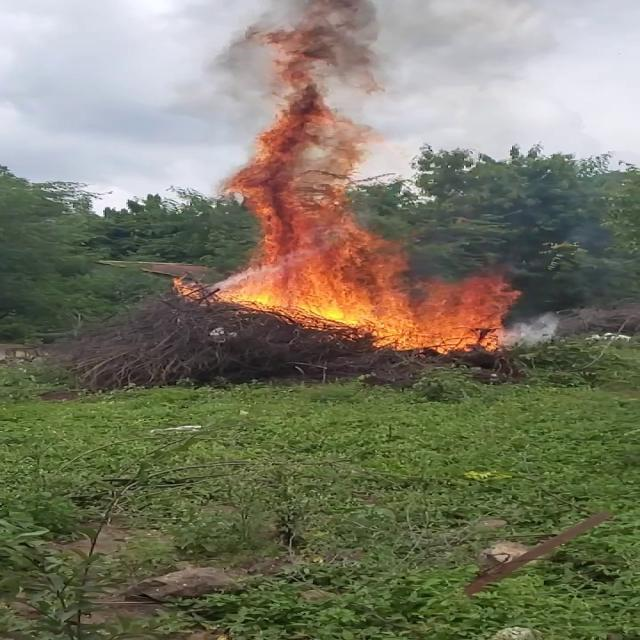Fire: (213, 231, 521, 353)
Smoke: (210, 0, 392, 207)
